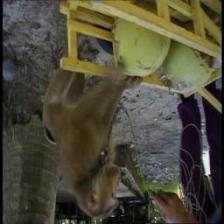monkey: (74, 153, 136, 224)
